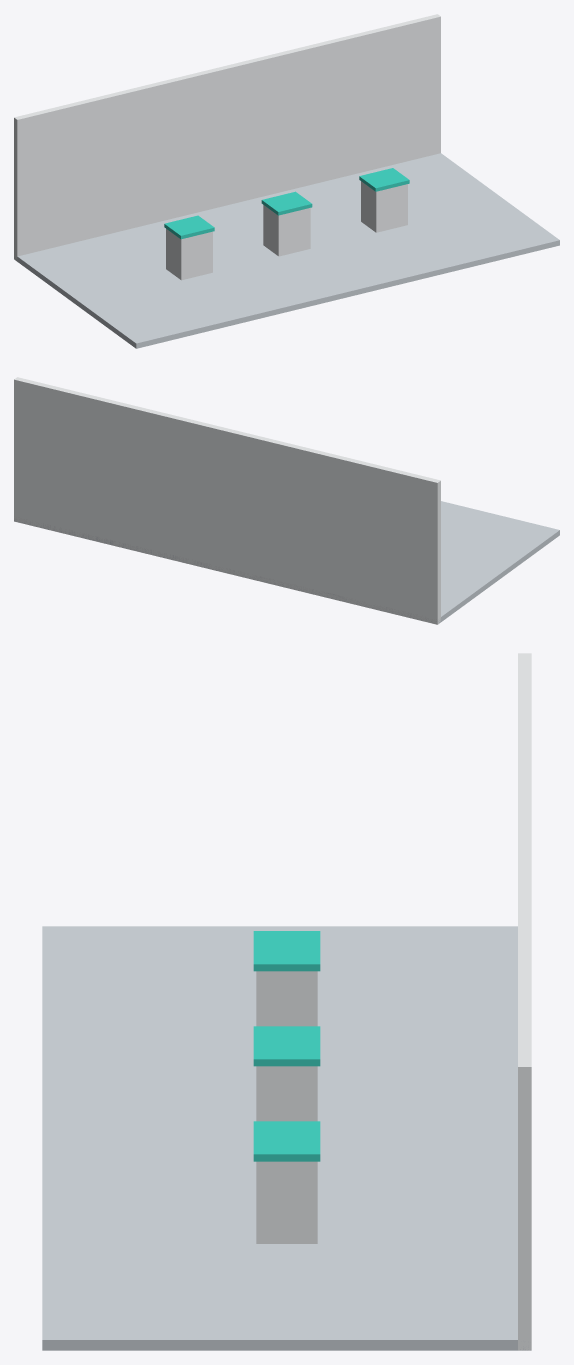
3 views of the same model, one above another, from view 1: azimuth 30°, elevation 25°; view 2: azimuth 150°, elevation 25°; view 3: azimuth 270°, elevation 25° (orthographic). The views are drawn at different scales.
Parts seen in each view (by area): view 1: Exhibition Booth Concept; view 2: Exhibition Booth Concept; view 3: Exhibition Booth Concept.
Boxes of the visible parts, x1,y1,x2,y2 form: Exhibition Booth Concept: (14, 14, 559, 348); Exhibition Booth Concept: (14, 377, 559, 624); Exhibition Booth Concept: (42, 653, 531, 1350).
Bounding box in the file's own units: 10 × 3.2 × 5.
